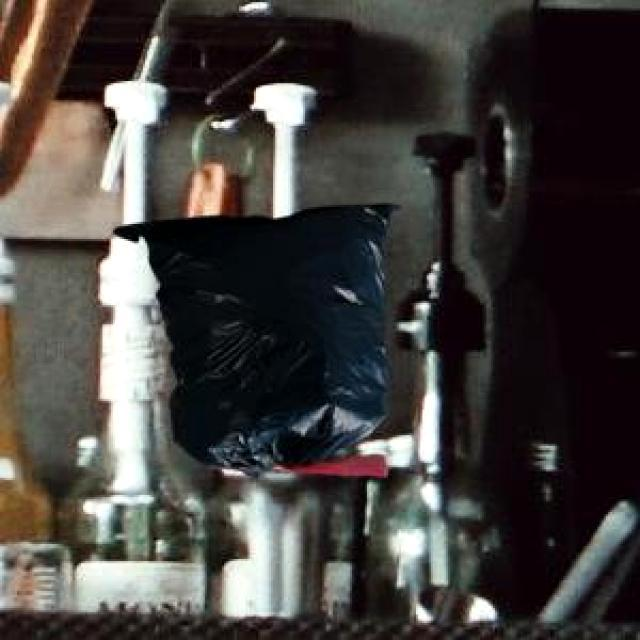Garbage_Bag: (110, 202, 398, 472)
